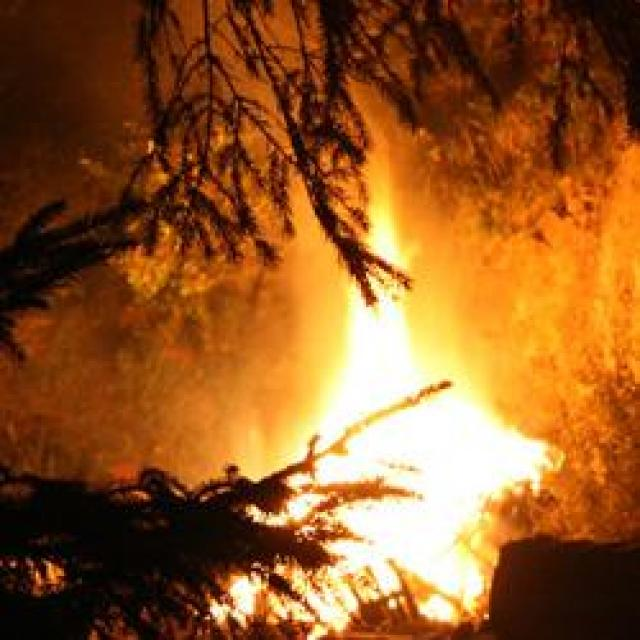fire: (333, 397, 498, 509), (362, 510, 483, 615), (351, 308, 407, 410), (368, 218, 402, 262), (229, 576, 257, 613)
smoke: (418, 232, 506, 358), (234, 330, 308, 466)
